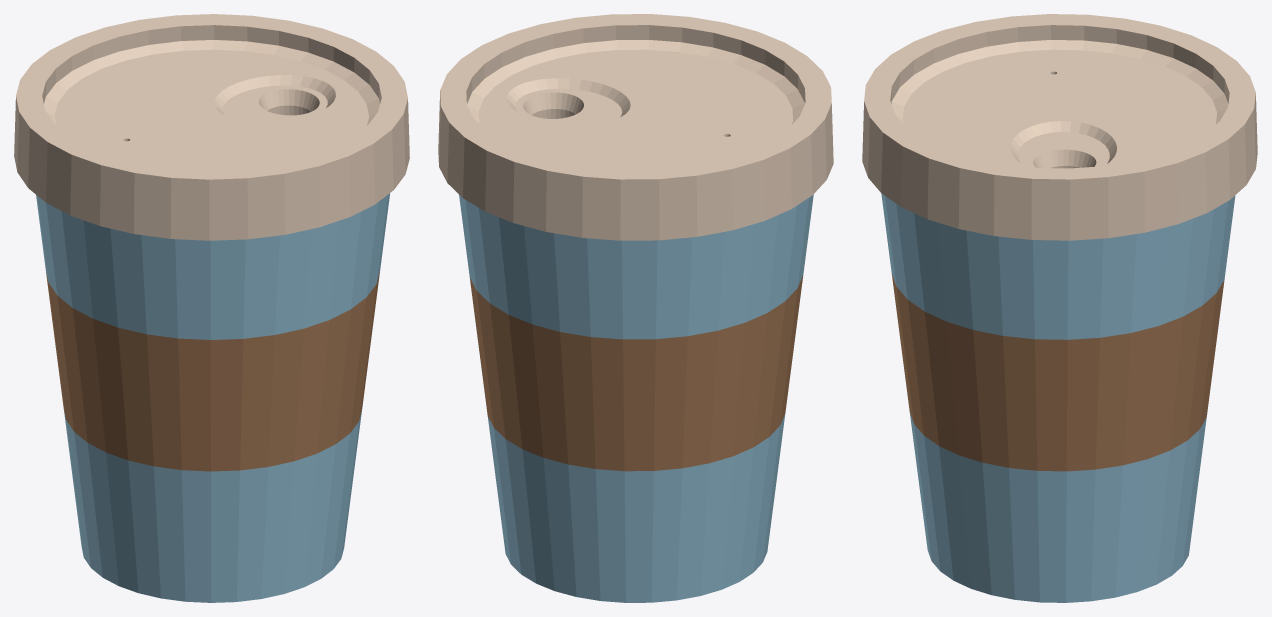
File: Small Coffee.fbx
3 views of the same model, side by side, from view 1: azimuth 30°, elevation 25°; view 2: azimuth 150°, elevation 25°; view 3: azimuth 270°, elevation 25° (orthographic).
Parts seen in each view (by area): view 1: Small Coffee; view 2: Small Coffee; view 3: Small Coffee.
Boxes of the visible parts, <box> form: Small Coffee: <box>14,14,409,602</box>; Small Coffee: <box>438,14,833,602</box>; Small Coffee: <box>862,14,1257,602</box>.
Bounding box in the file's own units: 15.68 × 19.72 × 15.68.
Materials: 1 (1 with a texture image).
